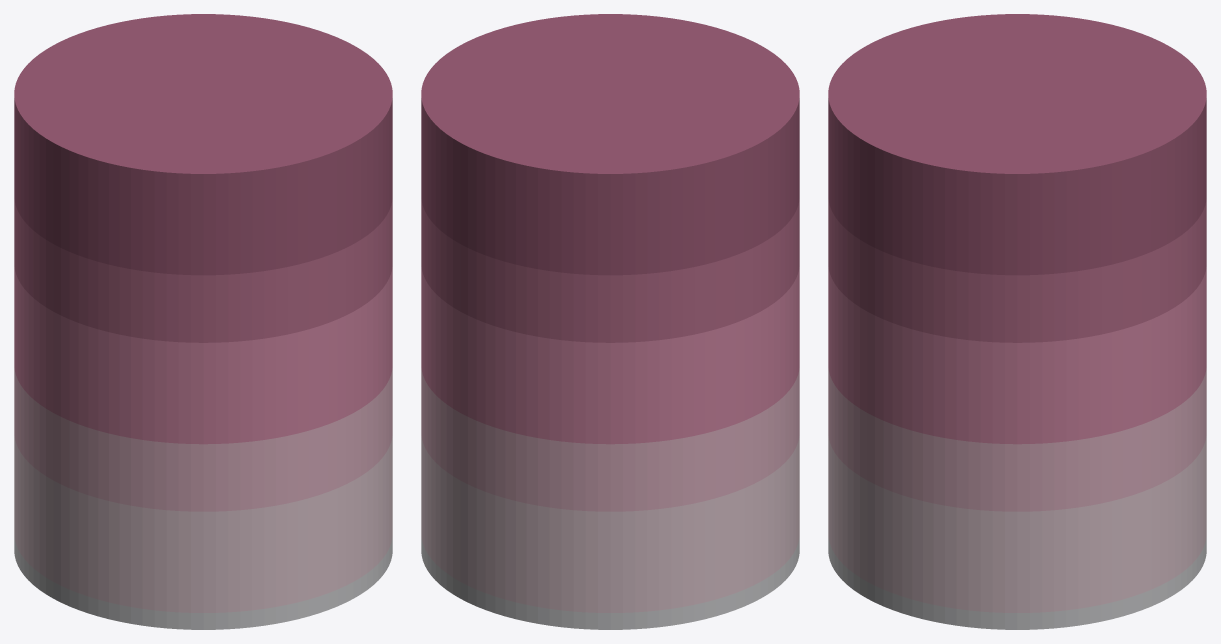
Rendered from cake_4in_layers3.glb.
The picture shows the model from 3 angles, left to right: view 1: azimuth 30°, elevation 25°; view 2: azimuth 150°, elevation 25°; view 3: azimuth 270°, elevation 25°; orthographic projection.
Visible parts, largest first — view 1: geometry_4, geometry_0, geometry_2, geometry_3, geometry_1, geometry_5; view 2: geometry_4, geometry_0, geometry_2, geometry_3, geometry_1, geometry_5; view 3: geometry_4, geometry_0, geometry_2, geometry_3, geometry_1, geometry_5.
Part boxes in pixels (x1,y1,x2,y2): geometry_4: (14,14,392,275); geometry_0: (14,436,392,612); geometry_2: (14,267,392,444); geometry_3: (14,199,392,342); geometry_1: (14,368,392,511); geometry_5: (14,537,392,629); geometry_4: (421,14,799,275); geometry_0: (421,436,799,612); geometry_2: (421,267,799,444); geometry_3: (421,199,799,342); geometry_1: (421,368,799,511); geometry_5: (421,537,799,629); geometry_4: (828,14,1206,275); geometry_0: (828,436,1206,612); geometry_2: (828,267,1206,444); geometry_3: (828,199,1206,342); geometry_1: (828,368,1206,511); geometry_5: (828,537,1206,629).
Size of the model in its own units: 0.1016 by 0.135 by 0.1016.
